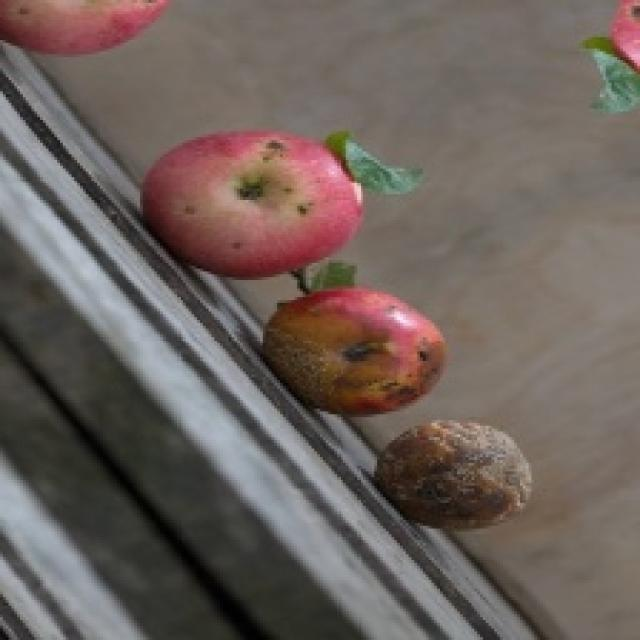100-_ripeness: (139, 136, 371, 276)
rotten_apple: (273, 292, 442, 410), (380, 421, 530, 531)
